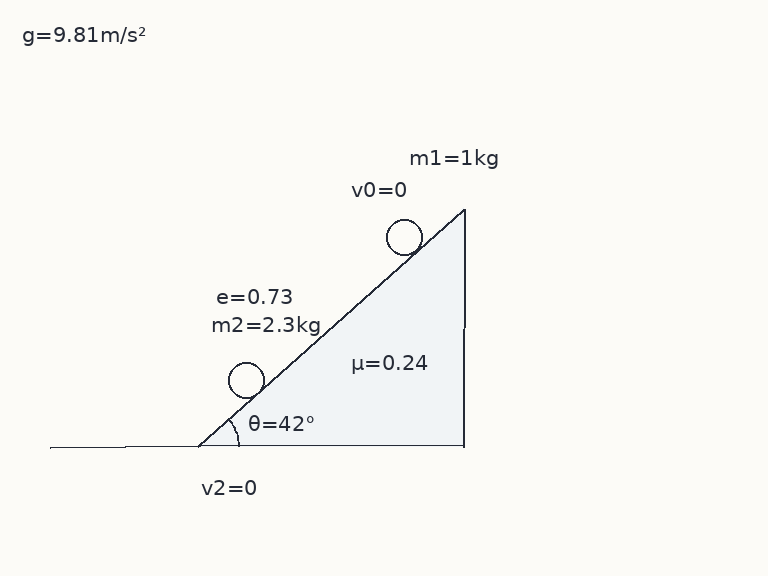ball: (384, 217, 424, 257), (226, 360, 266, 400)
ramp: (197, 206, 466, 448)
